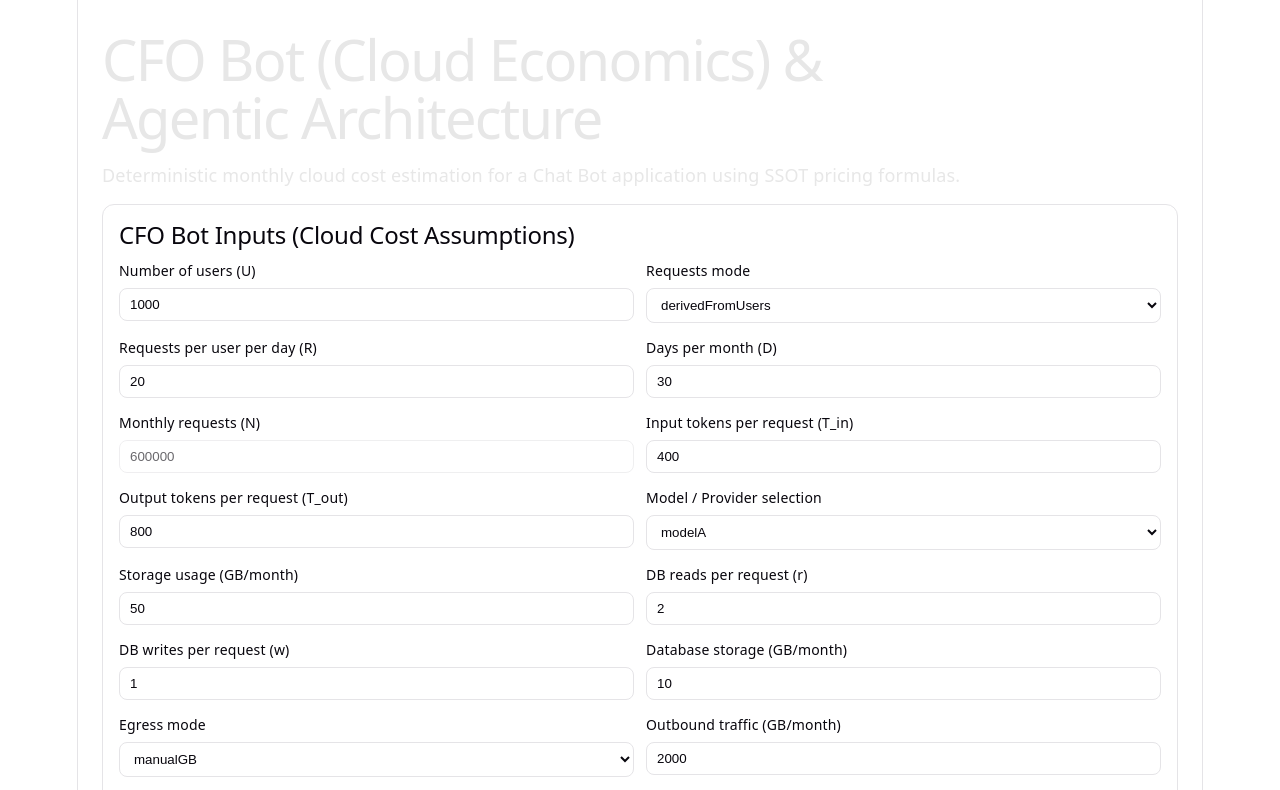
Test case: UI calculation consistency (SSOT) › updates total when model changes (modelB)
The image size is (1280, 790).
Select "modelB" in the dropdown labelled "Model / Provider selection". click: x=904, y=532
box: [646, 515, 1161, 550]
(page scrolled)
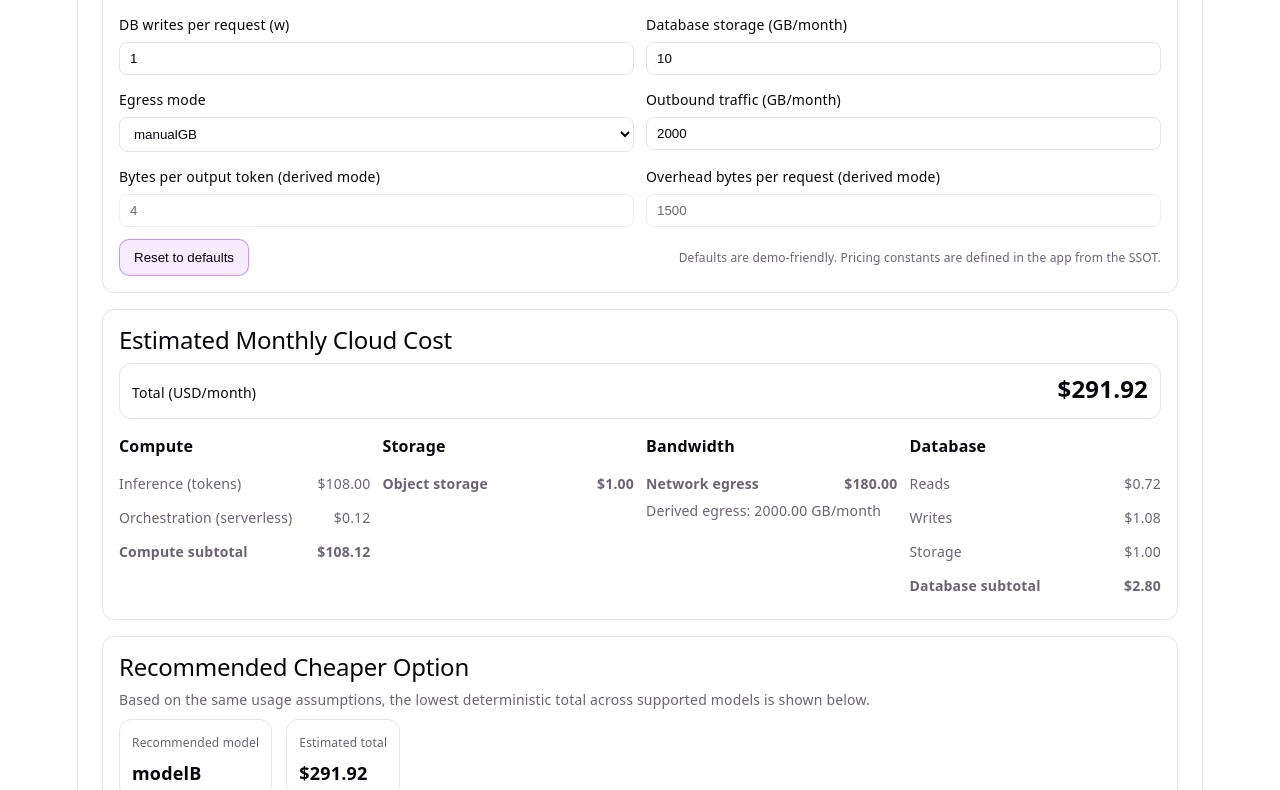
Now the element with test id "total-monthly-cost" shows "$291.92", box [1058, 372, 1148, 405]
